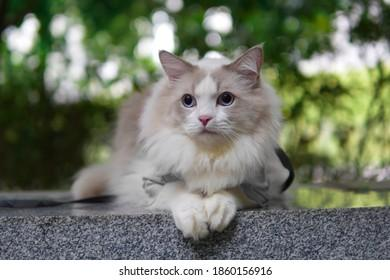ragdoll: (154, 31, 273, 160)
